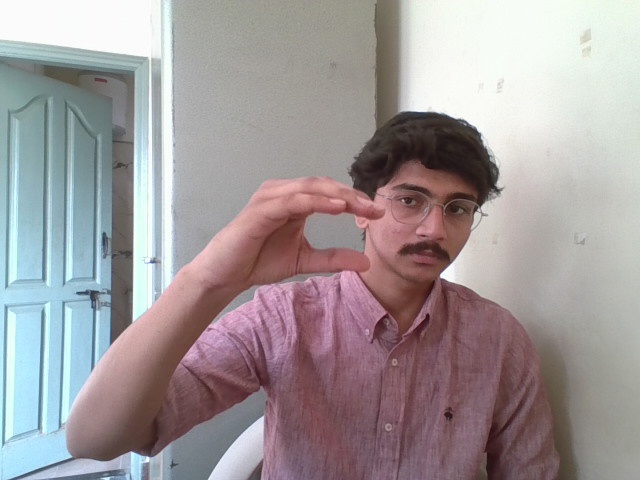no: (189, 171, 390, 283)
